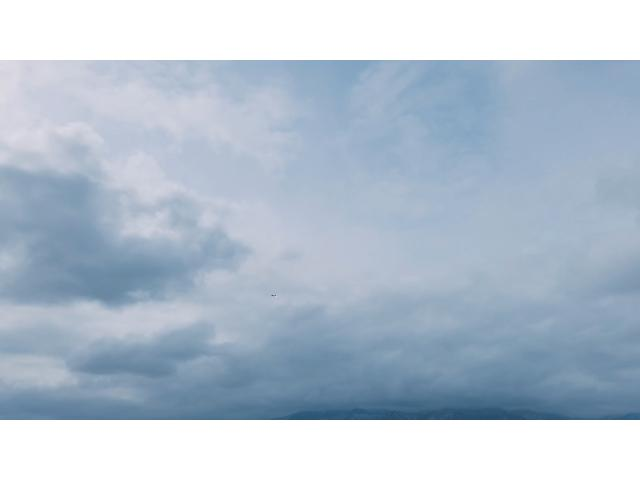Anti-Drone: (269, 292, 279, 299)
